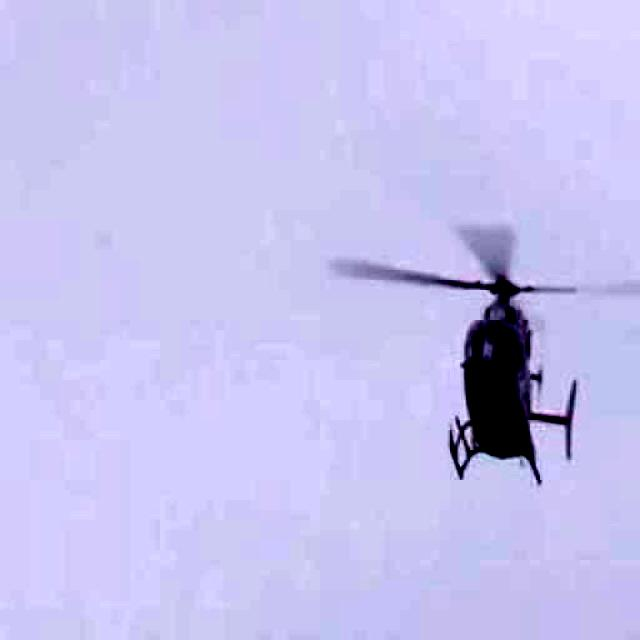drone: (334, 185, 640, 511)
